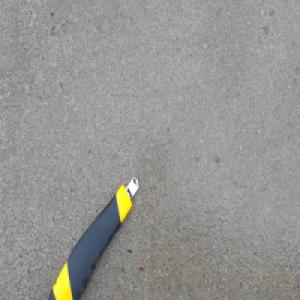Cutter: (47, 171, 139, 300)
